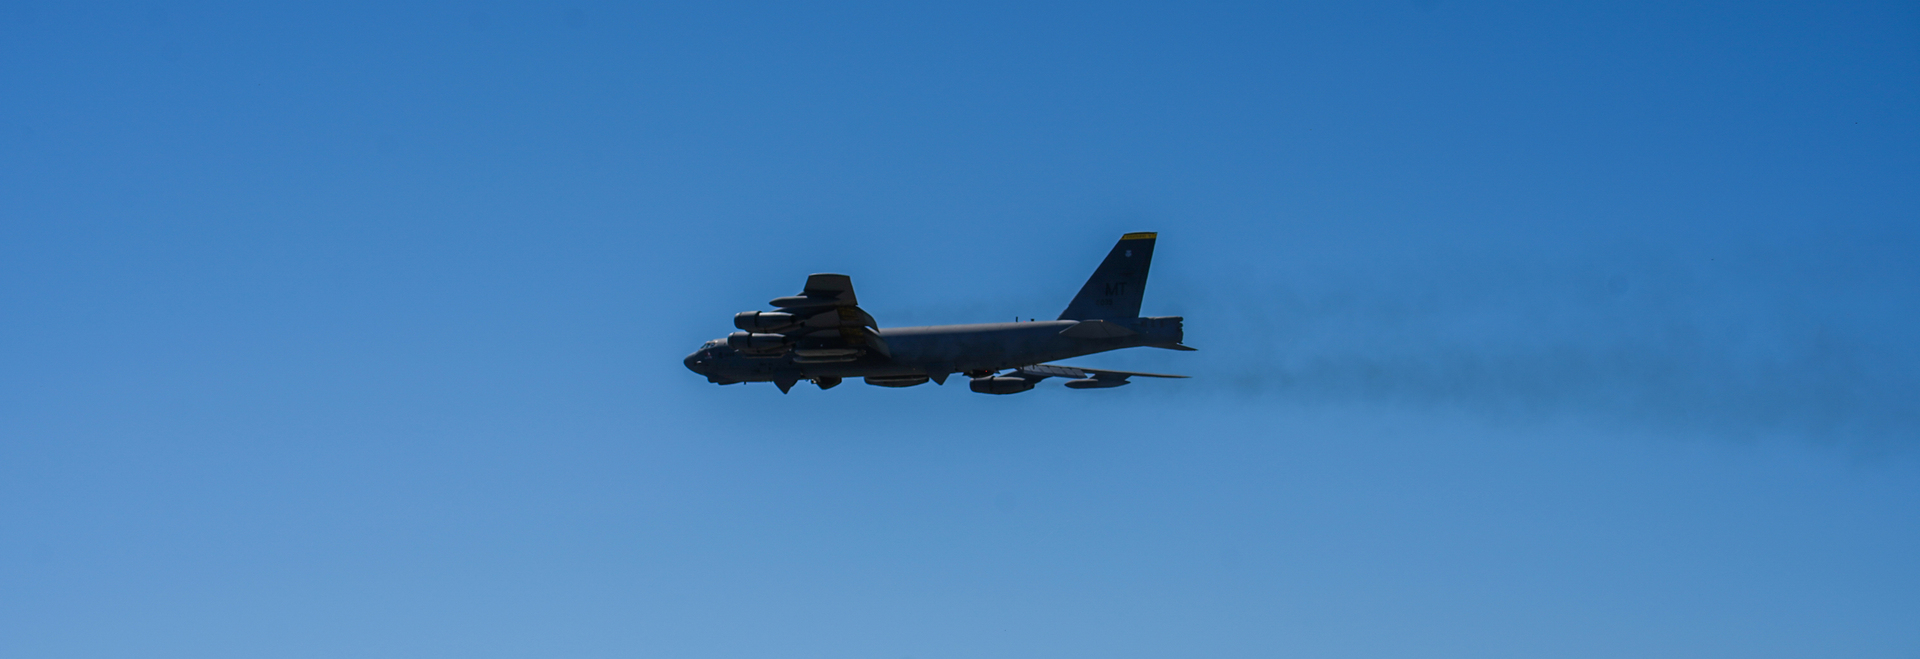B52: (682, 232, 1200, 396)
